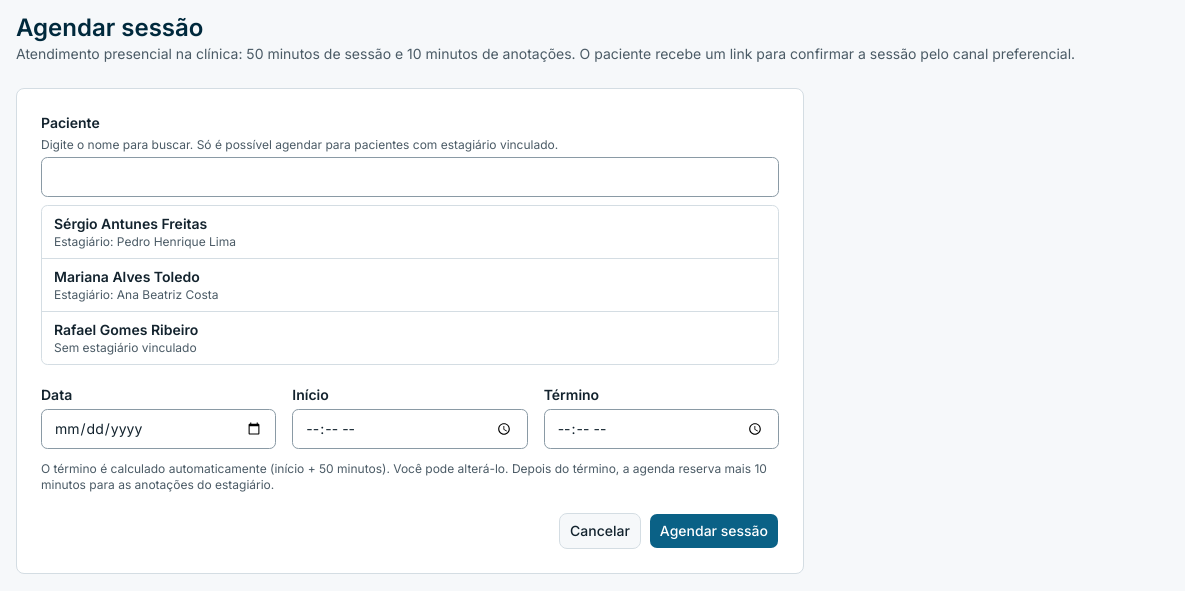
Scenario: Agendar sessão (RF10) › calcula o término pela duração padrão, envia só o início e confirma o envio por e-mail
Click the button "Sérgio Antunes Freitas Estagiário: Pedro Henrique Lima" at (131, 224), box [42,206,778,258]
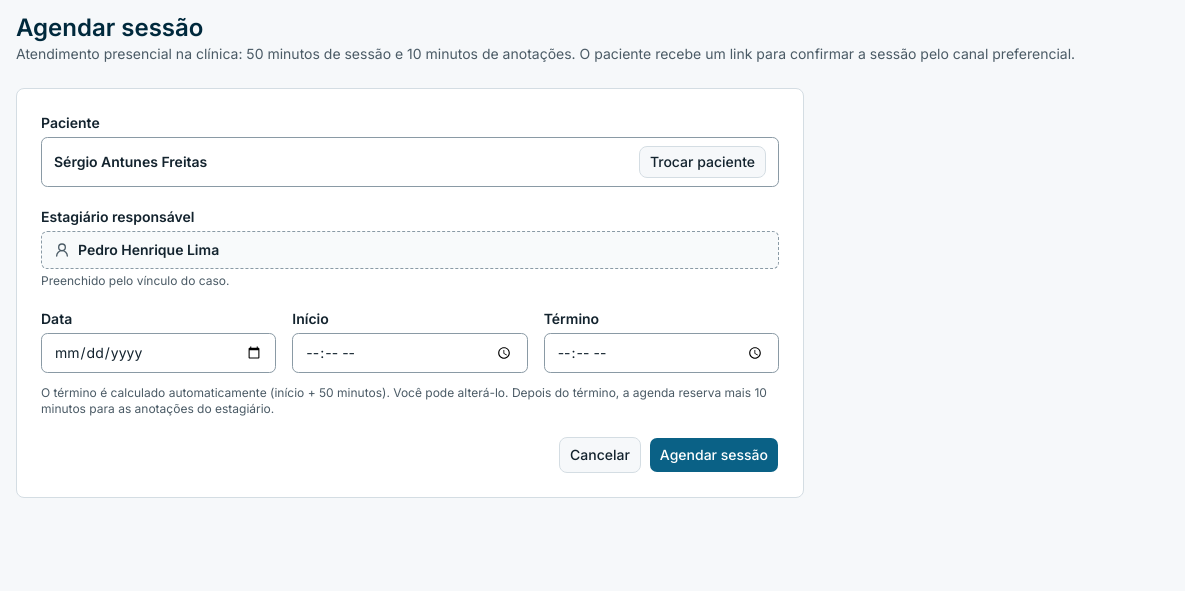
expect the text "Pedro Henrique Lima" is shown: met, box [41,231,779,269]
Type "2026-12-03" into the date field labelled "Data" at (159, 353), box [41,333,276,373]
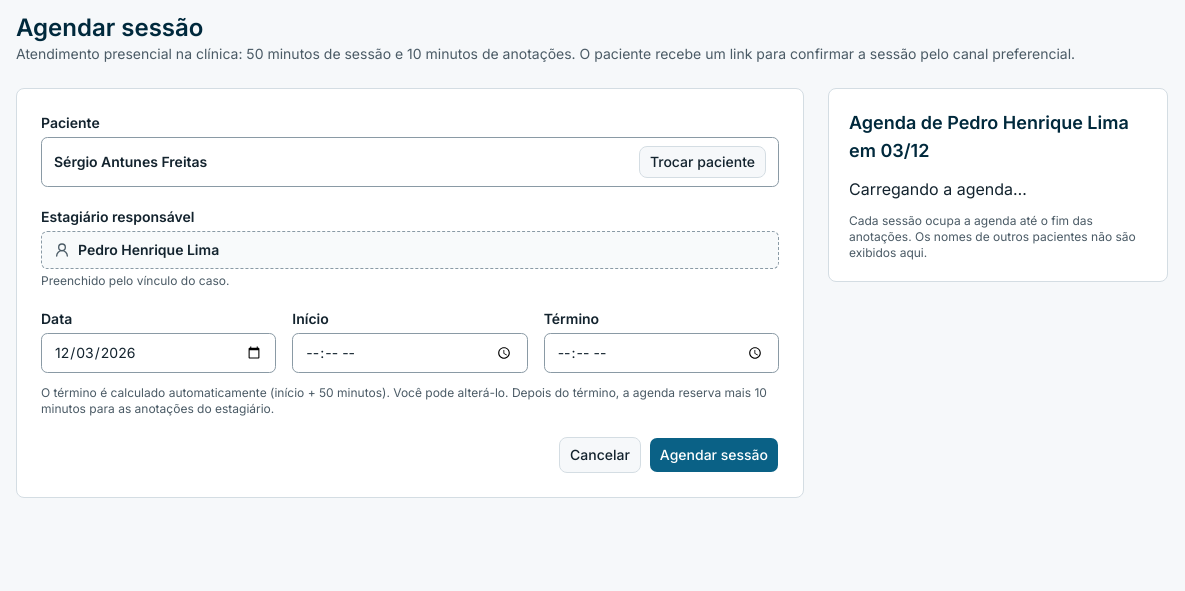
Type "10:00" into the time field labelled "Início" at (410, 353), box [292,333,528,373]
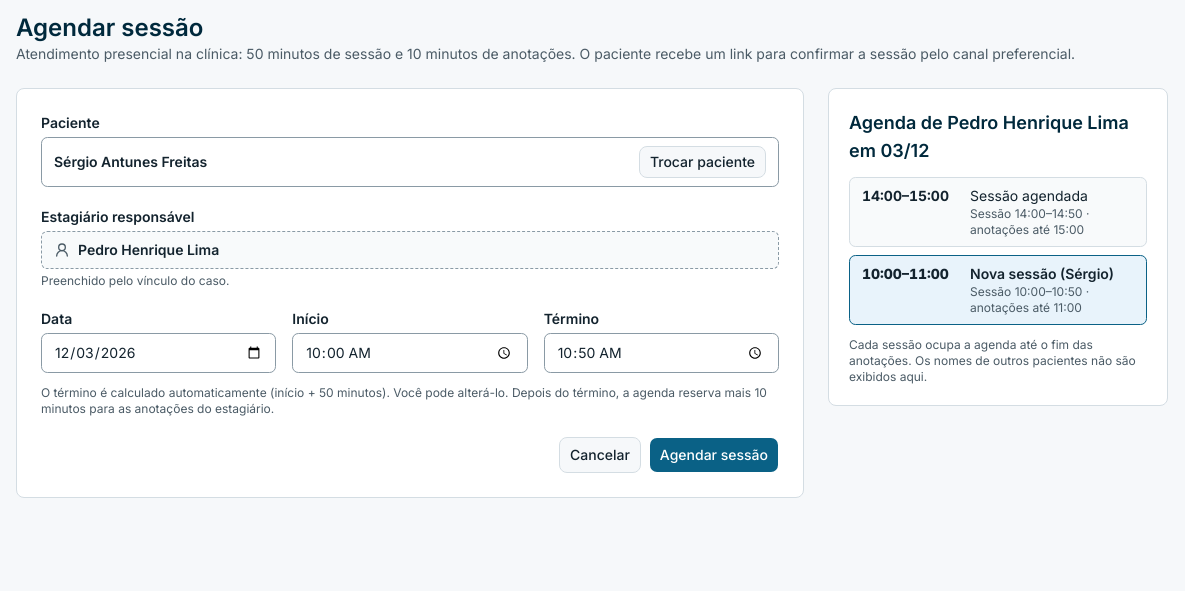
expect the time field labelled "Término" holds "10:50": met, box [544,333,779,373]
expect the text "14:00–15:00" is shown: met, box [862,187,949,204]
expect the text "10:00–11:00" is shown: met, box [862,265,949,282]
Click the button "Agendar sessão" at (714, 455), box [649,437,779,473]
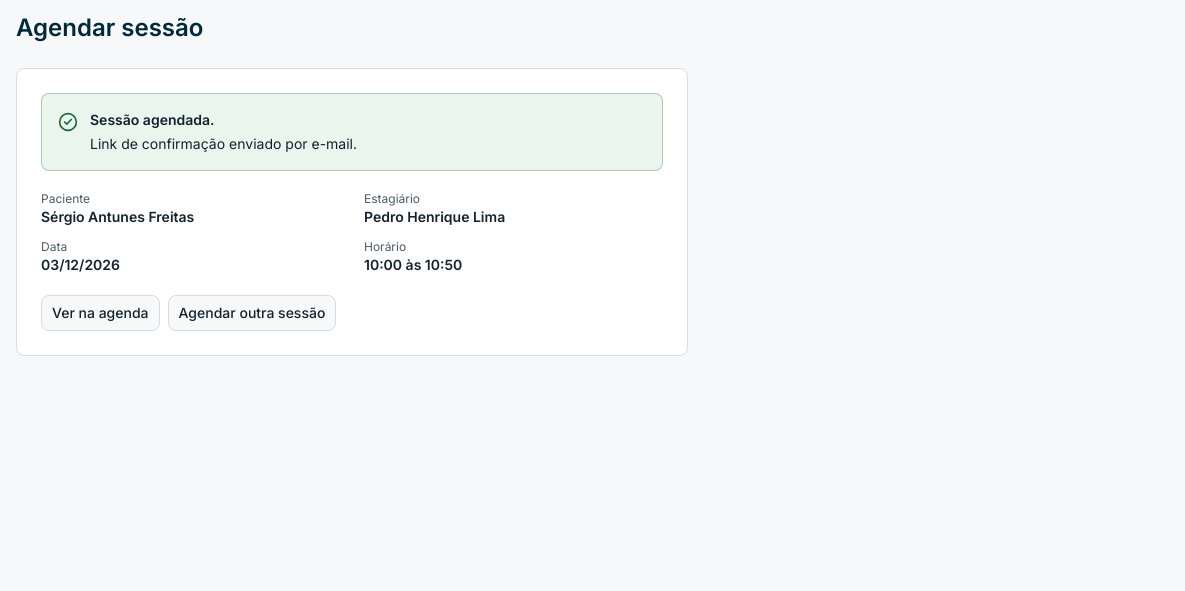
expect the text "Link de confirmação enviado por e-mail." is shown: met, box [90,134,357,154]
expect the text "10:00 às 10:50" is shown: met, box [364,256,462,273]
